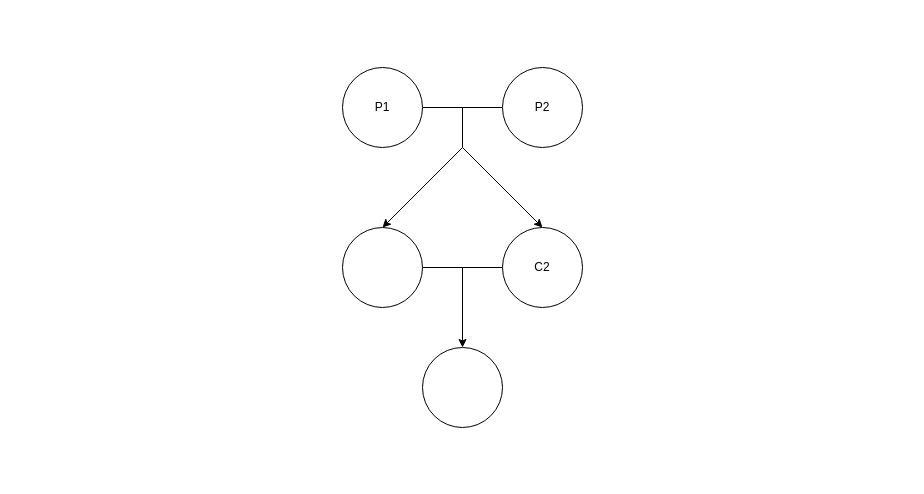
The diagram is 924 pixels wide and 494 high, and some of its shapes have lost their labels. The centre of each missing label's shape, as x and y in pixels:
C1: the point at 382,267
C3: the point at 462,387
